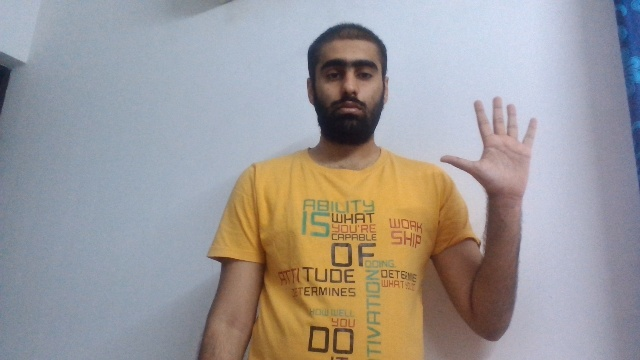paper: (439, 95, 537, 197)
